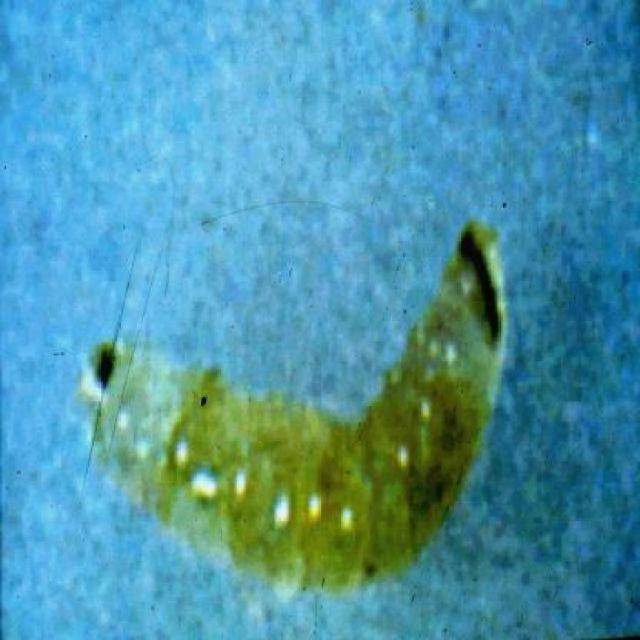whorl-maggot: (77, 215, 510, 608)
